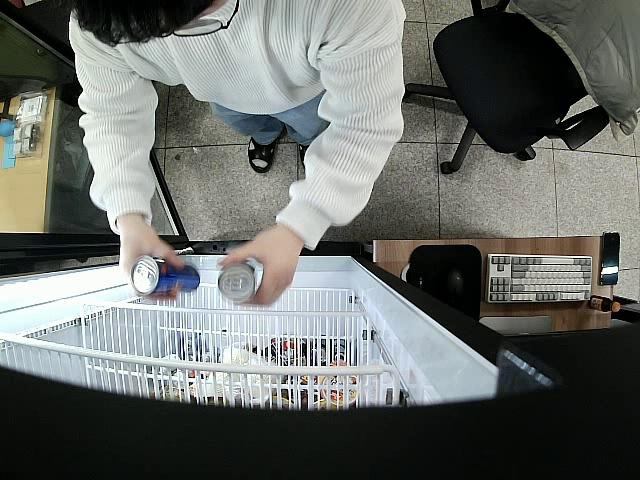00_hand: (219, 225, 299, 307), (119, 231, 184, 303)
16_hot6: (131, 255, 201, 296), (219, 261, 257, 302)
